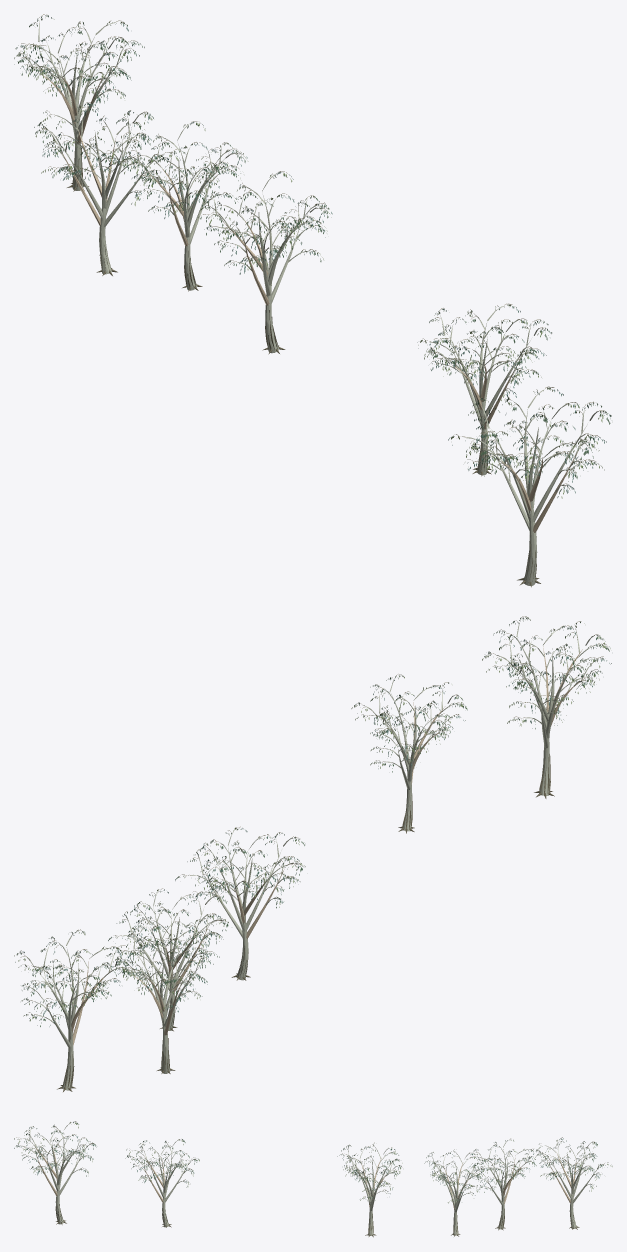
File: ecology-eucalyptus-mid-14.glb
3 renders of one model, top to bottom at view 1: azimuth 30°, elevation 25°; view 2: azimuth 150°, elevation 25°; view 3: azimuth 270°, elevation 25°, orthographic. The views are drawn at different scales.
Visible parts, largest first — view 1: eucalyptus-mid-125, eucalyptus-mid-123, eucalyptus-mid-121, eucalyptus-mid-124, eucalyptus-mid-120, eucalyptus-mid-122; view 2: eucalyptus-mid-125, eucalyptus-mid-123, eucalyptus-mid-120, eucalyptus-mid-124, eucalyptus-mid-121, eucalyptus-mid-122; view 3: eucalyptus-mid-125, eucalyptus-mid-120, eucalyptus-mid-124, eucalyptus-mid-123, eucalyptus-mid-121, eucalyptus-mid-122.
Boxes of the visible parts, <box> form: eucalyptus-mid-125: <box>448,386,611,587</box>; eucalyptus-mid-123: <box>198,171,332,354</box>; eucalyptus-mid-121: <box>34,102,180,275</box>; eucalyptus-mid-124: <box>417,303,551,476</box>; eucalyptus-mid-120: <box>14,14,144,191</box>; eucalyptus-mid-122: <box>122,121,248,291</box>; eucalyptus-mid-125: <box>482,616,611,798</box>; eucalyptus-mid-123: <box>175,826,305,980</box>; eucalyptus-mid-120: <box>14,929,131,1091</box>; eucalyptus-mid-124: <box>351,674,467,833</box>; eucalyptus-mid-121: <box>112,926,219,1073</box>; eucalyptus-mid-122: <box>108,888,228,1031</box>; eucalyptus-mid-125: <box>14,1121,96,1224</box>; eucalyptus-mid-120: <box>535,1137,612,1229</box>; eucalyptus-mid-124: <box>125,1139,199,1227</box>; eucalyptus-mid-123: <box>337,1142,402,1237</box>; eucalyptus-mid-121: <box>473,1138,537,1230</box>; eucalyptus-mid-122: <box>424,1149,484,1236</box>.
Bounding box in the file's own units: 13.87 × 14.64 × 81.67.
